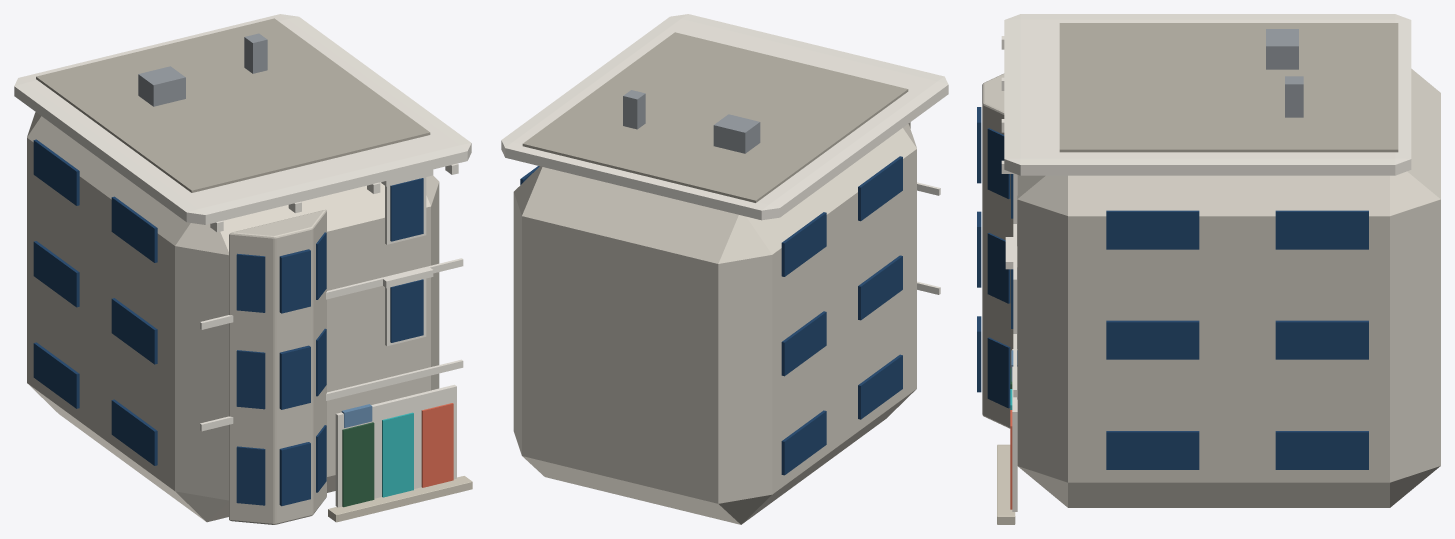
File: edw_w9_f3.glb
3 renders of one model, left to right at view 1: azimuth 30°, elevation 25°; view 2: azimuth 150°, elevation 25°; view 3: azimuth 270°, elevation 25°, orthographic. The views are drawn at different scales.
Visible parts, largest first — view 1: walls, roofslab, corn, bay, door, door.002, door.001, lstep, wgl, wgl.001, bw.001, bw (+24 smaller); view 2: walls, roofslab, corn, sb.002, sb.006, sb.010, sb.008, sb, sb.004, hvac, pipe; view 3: walls, roofslab, corn, bay, sb.005, sb.007, sb.009, sb.011, sb.001, sb.003, bwa.001, bwa.003 (+5 smaller).
Boxes of the visible parts, left/top/right/bottom form: walls: left=27, top=112, right=439, bottom=522; roofslab: left=36, top=18, right=430, bottom=192; corn: left=14, top=14, right=471, bottom=224; bay: left=229, top=209, right=326, bottom=524; door: left=342, top=422, right=374, bottom=507; door.002: left=421, top=403, right=453, bottom=487; door.001: left=382, top=412, right=413, bottom=497; lstep: left=328, top=476, right=472, bottom=522; wgl: left=390, top=279, right=423, bottom=342; wgl.001: left=390, top=178, right=423, bottom=241; bw.001: left=279, top=345, right=310, bottom=409; bw: left=279, top=442, right=310, bottom=506; walls: left=513, top=124, right=916, bottom=524; roofslab: left=522, top=32, right=908, bottom=202; corn: left=501, top=14, right=948, bottom=220; sb.002: left=781, top=410, right=826, bottom=475; sb.006: left=781, top=311, right=826, bottom=376; sb.010: left=781, top=212, right=826, bottom=276; sb.008: left=858, top=156, right=902, bottom=221; sb: left=858, top=354, right=902, bottom=419; sb.004: left=858, top=255, right=902, bottom=320; hvac: left=713, top=114, right=760, bottom=153; pipe: left=623, top=90, right=645, bottom=129; walls: left=1017, top=68, right=1440, bottom=507; roofslab: left=1059, top=23, right=1398, bottom=152; corn: left=1004, top=14, right=1411, bottom=175; bay: left=982, top=73, right=1017, bottom=428; sb.005: left=1106, top=320, right=1199, bottom=359; sb.007: left=1275, top=320, right=1368, bottom=359; sb.009: left=1106, top=210, right=1199, bottom=249; sb.011: left=1275, top=210, right=1368, bottom=249; sb.001: left=1106, top=431, right=1199, bottom=469; sb.003: left=1275, top=431, right=1368, bottom=469; bwa.001: left=987, top=337, right=1010, bottom=408; bwa.003: left=987, top=233, right=1010, bottom=303.
Size of the model in its own units: 9.7 by 12.05 by 12.59.
